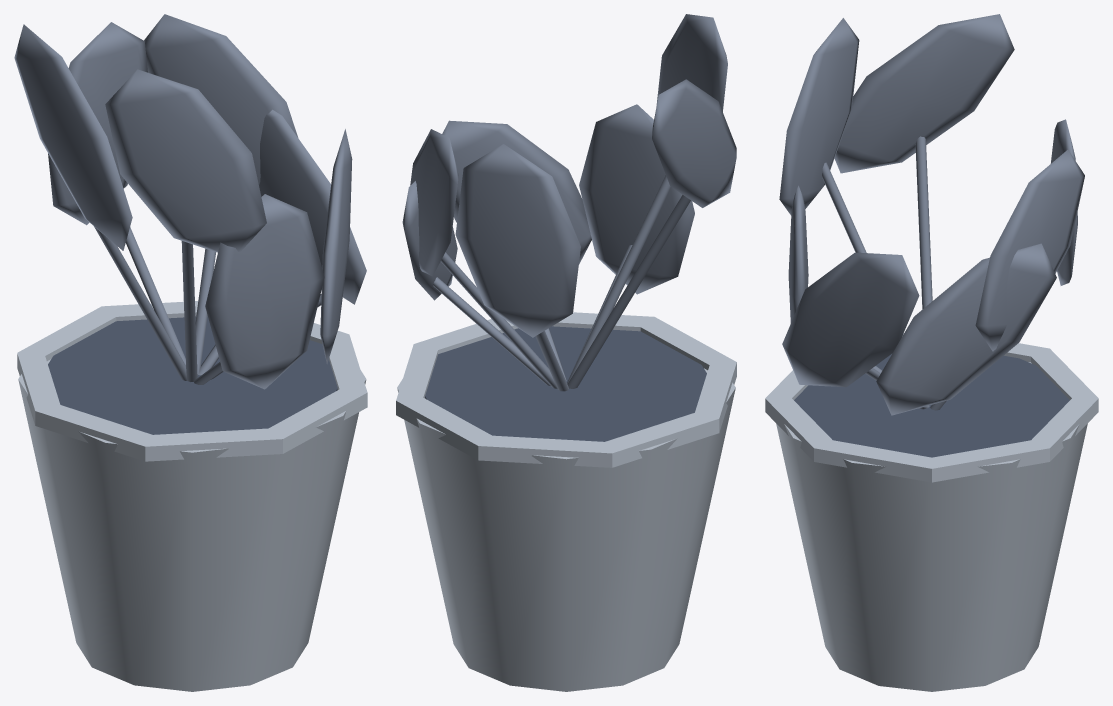
File: 高盆观叶植物-lite.glb
The picture shows the model from 3 angles, left to right: view 1: azimuth 30°, elevation 25°; view 2: azimuth 150°, elevation 25°; view 3: azimuth 270°, elevation 25°; orthographic projection. The views are drawn at different scales.
Visible parts, largest first — view 1: garden-large-planter; view 2: garden-large-planter; view 3: garden-large-planter.
Part boxes in pixels (x1,y1,x2,y2): garden-large-planter: (14, 14, 367, 691); garden-large-planter: (396, 14, 736, 691); garden-large-planter: (765, 14, 1098, 691).
Size of the model in its own units: 0.7 by 1.35 by 0.7.
